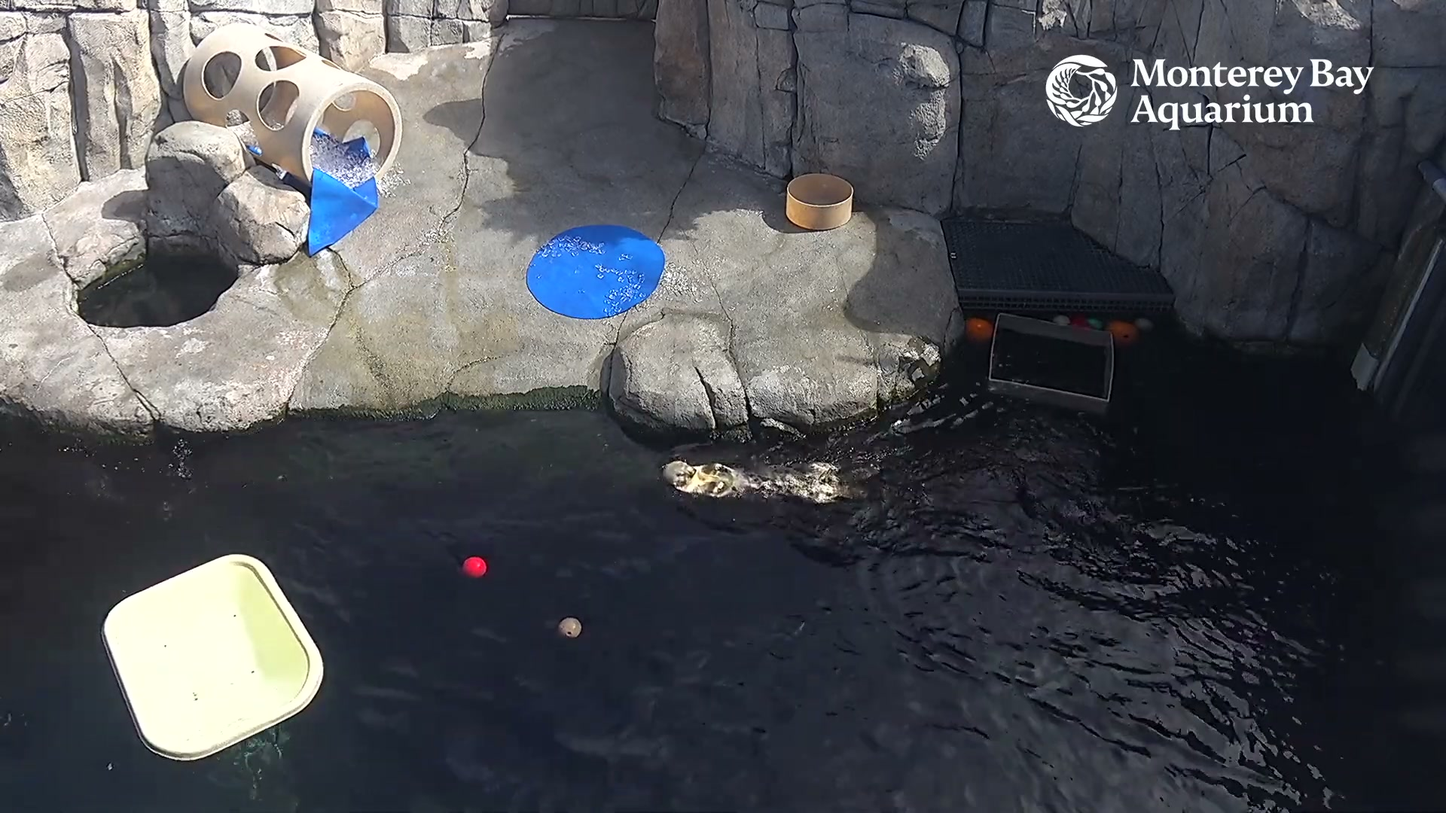Southern Sea Otter: (638, 428, 894, 532)
